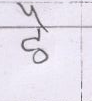ai_matra: (18, 4, 47, 25)
